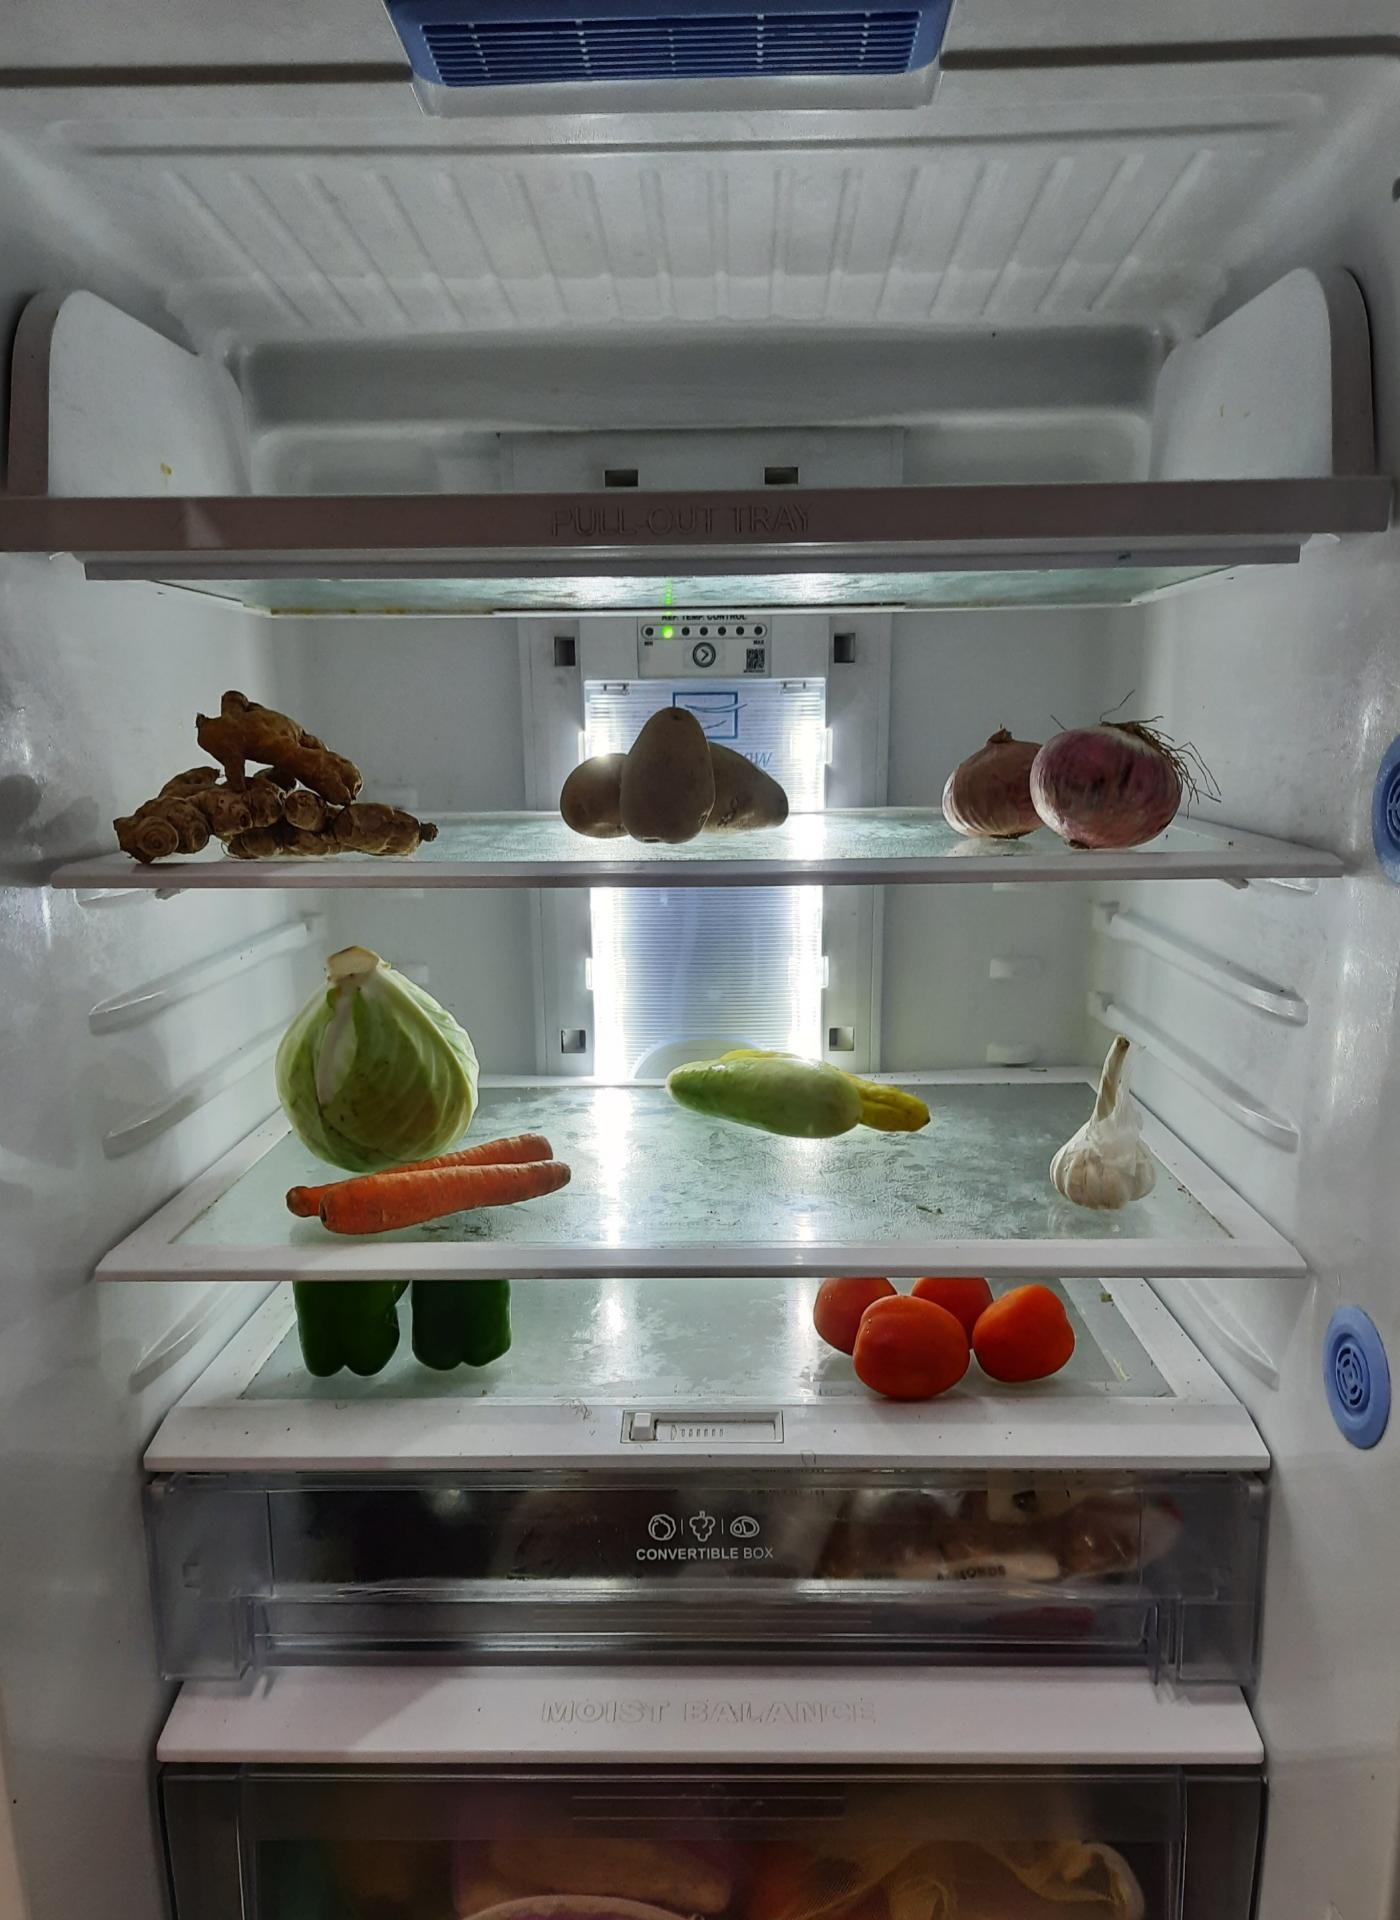cabbage: (280, 957, 476, 1164)
capsicum: (292, 1275, 517, 1377)
carrots: (283, 1134, 580, 1230)
cucumber: (652, 1040, 933, 1143)
garlic: (1059, 1024, 1160, 1206)
ginger: (106, 684, 440, 871)
onion: (942, 711, 1188, 841)
potato: (550, 708, 795, 847)
tomato: (802, 1269, 1078, 1395)
